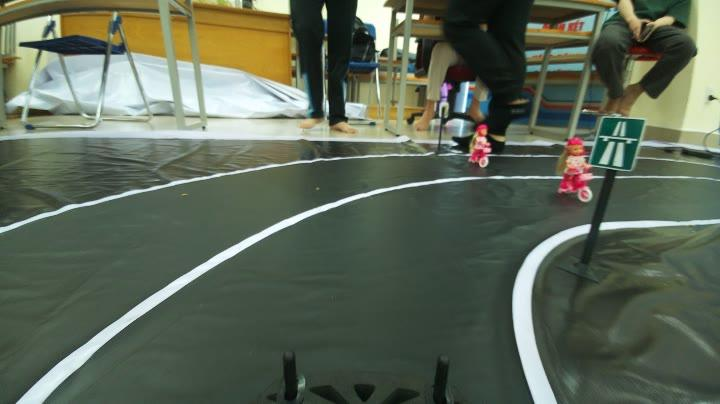highway_entry: (598, 113, 642, 172)
pedestrian: (556, 129, 594, 202), (465, 118, 492, 172)
